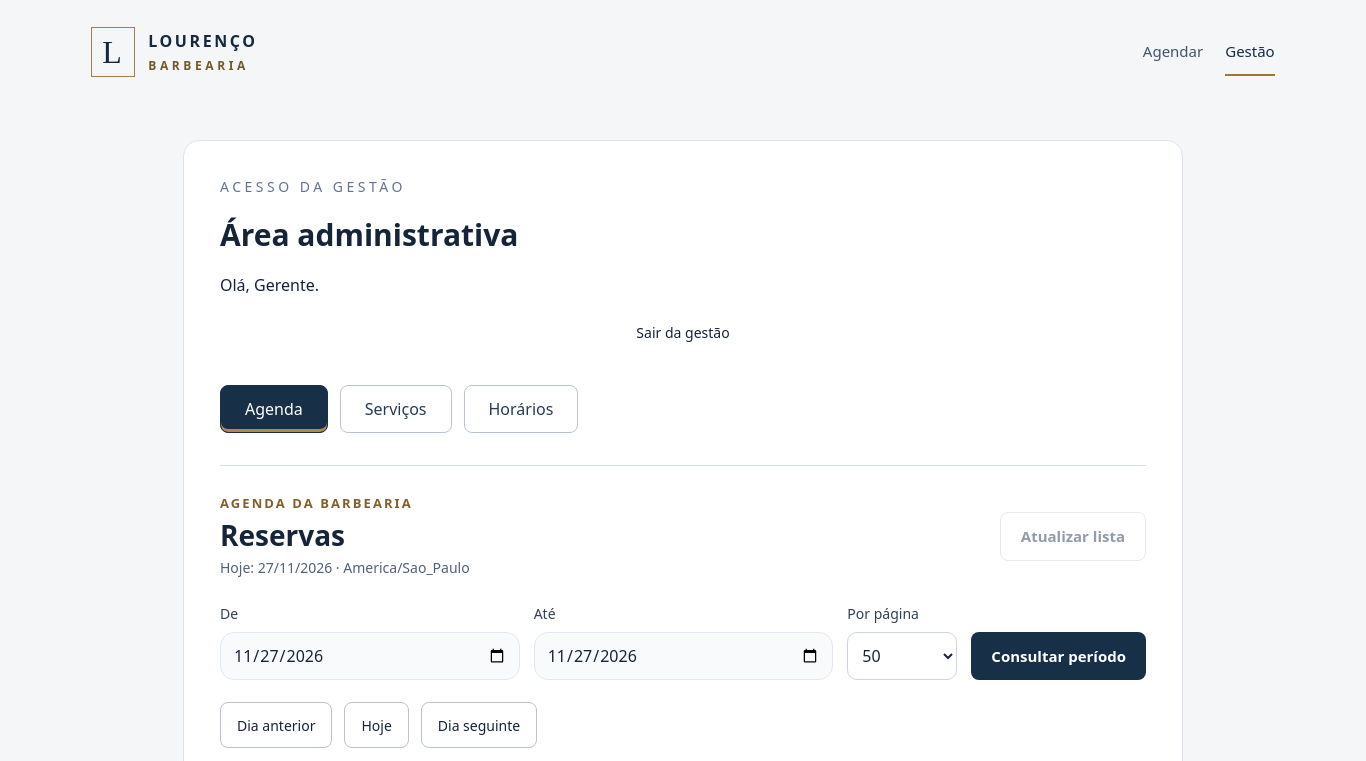
Test: keeps the authenticated screen when logout fails with 403
Expected: the heading "Área administrativa" is shown, [220,214,518,255]
Click the button "Sair da gestão" at (683, 333), box [220,317,1146,349]
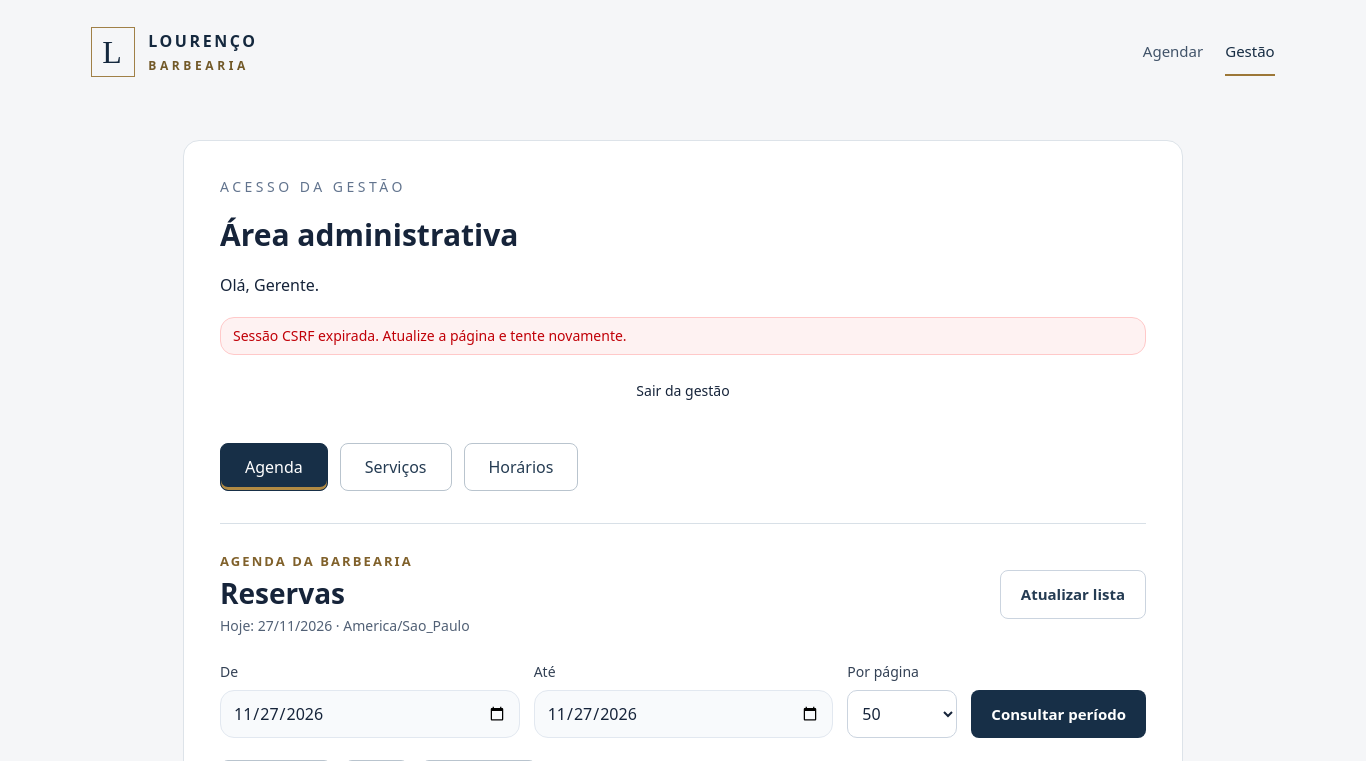
Expected: the heading "Área administrativa" is shown, [220,214,518,255]
Result: the message "Sessão CSRF expirada. Atualize a página e tente novamente." is shown at [220,317,1146,355]
